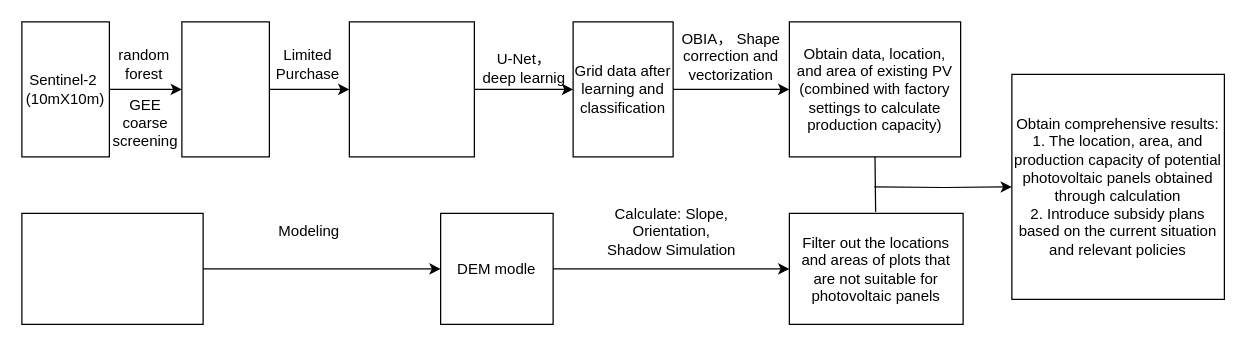
The diagram is 1246 pixels wide and 346 high, and some of its shapes have lost their labels. Here are the shapes that lost their labels. From the top down, the centre of each, then its label:
At (225,89): "Possible areas with PV".
At (411,89): "Fine commercial remote sensing data eg：Airbus (50cm/30cm)".
At (112,268): "Official free LiDAR point cloud data e.g.: Open Data BCN; ICGC".
